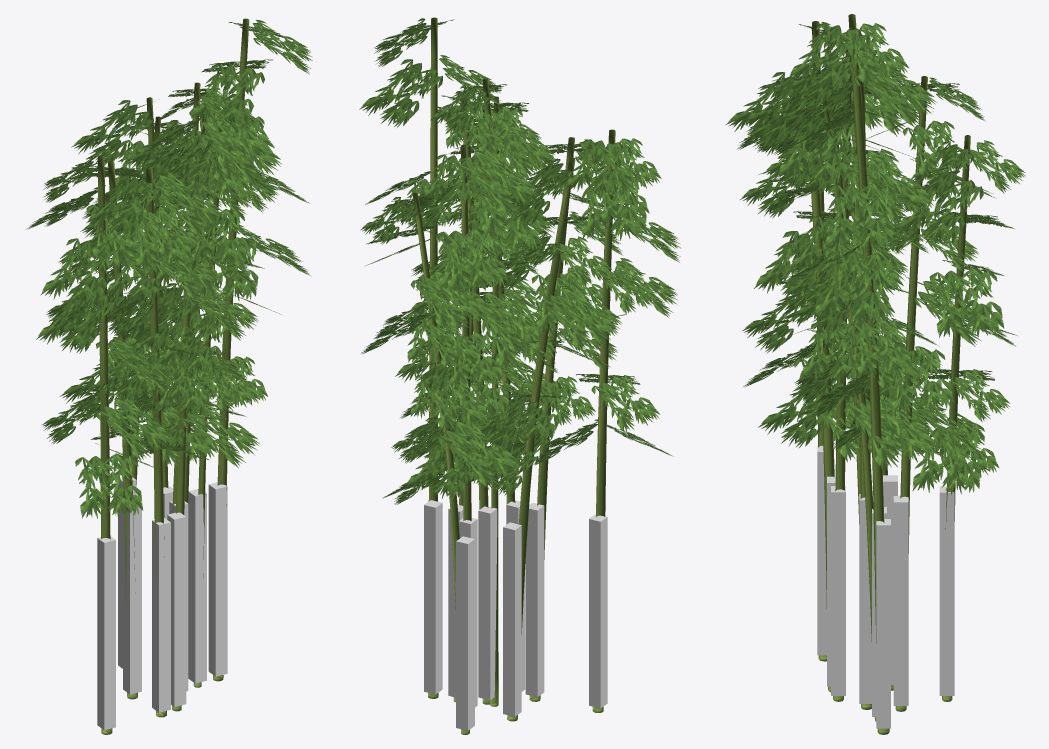
The model's file is giant_bamboo.glb.
3 views of the same model, side by side, from view 1: azimuth 30°, elevation 25°; view 2: azimuth 150°, elevation 25°; view 3: azimuth 270°, elevation 25° (orthographic). The views are drawn at different scales.
Visible parts, largest first — view 1: GiantLeaves, GiantCulms, Culm-convcolonly.001, Culm-convcolonly.007, Culm-convcolonly.008, Culm-convcolonly.005, Culm-convcolonly.003, Culm-convcolonly.009, Culm-convcolonly.006, Culm-convcolonly.002; view 2: GiantLeaves, GiantCulms, Culm-convcolonly.008, Culm-convcolonly.001, Culm-convcolonly.006, Culm-convcolonly.003, Culm-convcolonly.007, Culm-convcolonly.002, Culm-convcolonly.005, Culm-convcolonly.004, Culm-convcolonly.009; view 3: GiantLeaves, GiantCulms, Culm-convcolonly.004, Culm-convcolonly.006, Culm-convcolonly.001, Culm-convcolonly.009, Culm-convcolonly.002, Culm-convcolonly.007, Culm-convcolonly.003, Culm-convcolonly.008, Culm-convcolonly.005.
Boxes of the visible parts, bbox=[...] form: GiantLeaves: bbox=[26, 19, 312, 518]; GiantCulms: bbox=[97, 18, 249, 734]; Culm-convcolonly.001: bbox=[208, 482, 227, 676]; Culm-convcolonly.007: bbox=[97, 536, 115, 730]; Culm-convcolonly.008: bbox=[152, 518, 170, 712]; Culm-convcolonly.005: bbox=[188, 489, 206, 683]; Culm-convcolonly.003: bbox=[123, 504, 141, 694]; Culm-convcolonly.009: bbox=[167, 512, 186, 706]; Culm-convcolonly.006: bbox=[118, 477, 136, 668]; Culm-convcolonly.002: bbox=[169, 501, 188, 691]; GiantLeaves: bbox=[359, 18, 681, 504]; GiantCulms: bbox=[412, 17, 615, 734]; Culm-convcolonly.008: bbox=[525, 502, 544, 697]; Culm-convcolonly.001: bbox=[424, 500, 442, 694]; Culm-convcolonly.006: bbox=[456, 536, 474, 730]; Culm-convcolonly.003: bbox=[503, 522, 521, 716]; Culm-convcolonly.007: bbox=[589, 514, 607, 708]; Culm-convcolonly.002: bbox=[478, 506, 497, 700]; Culm-convcolonly.005: bbox=[448, 504, 463, 697]; Culm-convcolonly.004: bbox=[458, 518, 477, 707]; Culm-convcolonly.009: bbox=[506, 500, 525, 691]; GiantLeaves: bbox=[726, 22, 1025, 494]; GiantCulms: bbox=[808, 14, 970, 734]; Culm-convcolonly.004: bbox=[893, 496, 908, 705]; Culm-convcolonly.006: bbox=[939, 486, 954, 695]; Culm-convcolonly.001: bbox=[876, 519, 890, 728]; Culm-convcolonly.009: bbox=[831, 486, 845, 695]; Culm-convcolonly.002: bbox=[859, 494, 873, 703]; Culm-convcolonly.007: bbox=[817, 445, 826, 655]; Culm-convcolonly.003: bbox=[883, 475, 897, 684]; Culm-convcolonly.008: bbox=[827, 476, 835, 686]; Culm-convcolonly.005: bbox=[872, 507, 886, 716].
Size of what is drawn, in the model's own units: 10.13 by 21.36 by 8.48.
2 materials, 2 textured.
